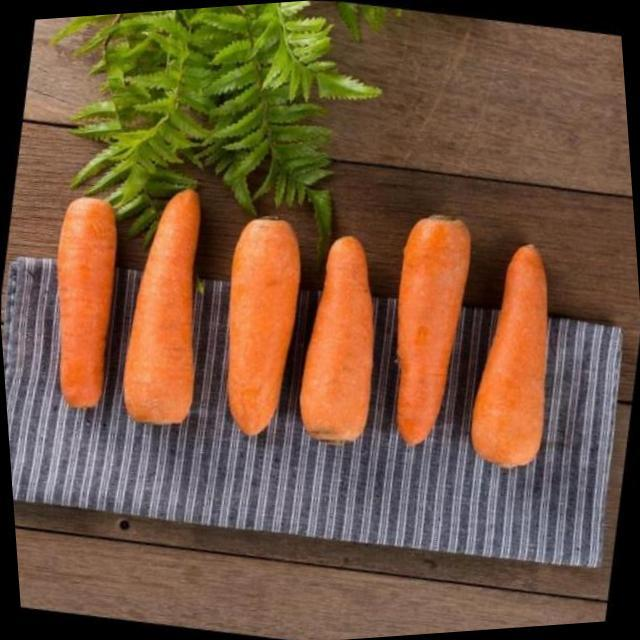carrot: (124, 189, 200, 423), (396, 216, 471, 446), (471, 245, 548, 468), (229, 218, 300, 436), (300, 236, 374, 442), (56, 198, 116, 408)
